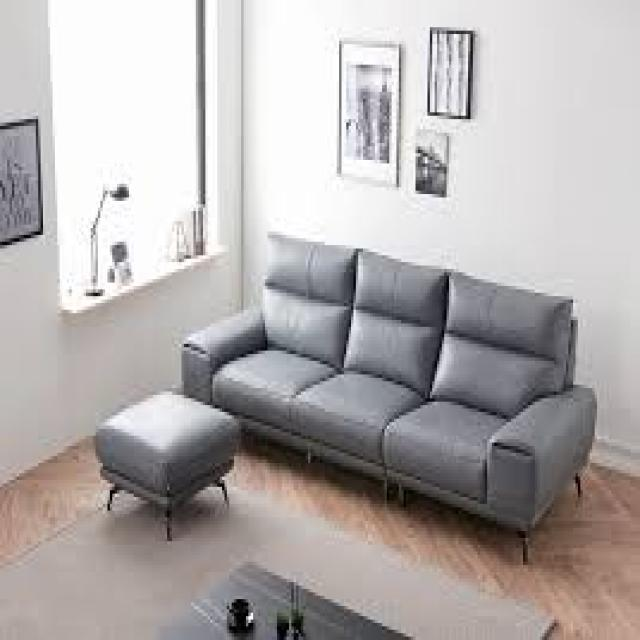Sofa: (79, 220, 622, 580)
